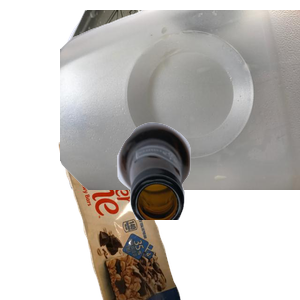glass: (115, 120, 300, 300)
metal: (60, 10, 300, 190)
plastic: (60, 10, 300, 190)
trash: (56, 120, 229, 300)
